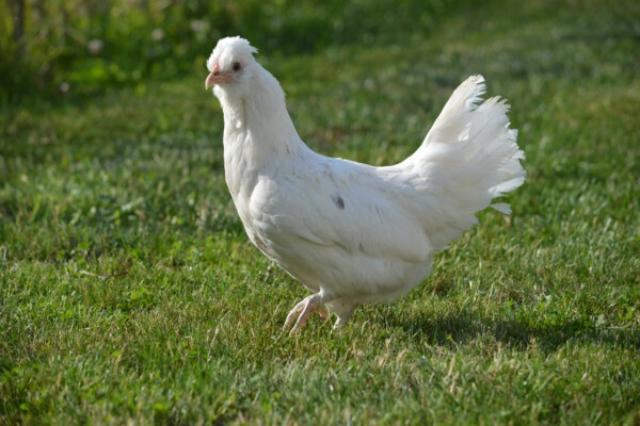Chicken: (203, 34, 526, 334)
